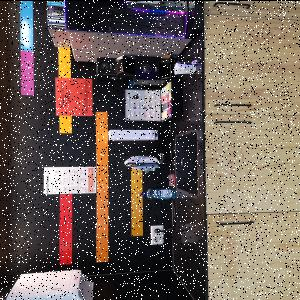Cup: (175, 63, 198, 75)
Plastic-bottle: (140, 188, 176, 201)
